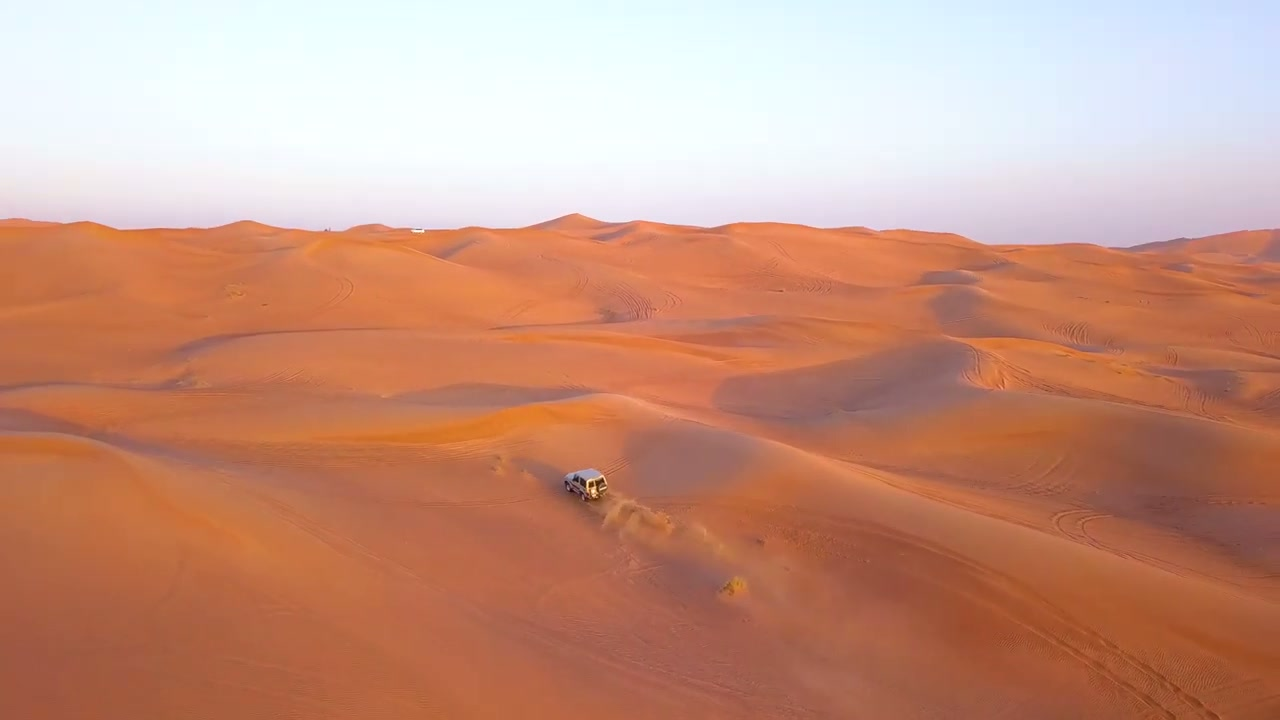vehicle_track: (219, 473, 756, 708), (785, 506, 1220, 719), (521, 542, 755, 708), (1052, 507, 1279, 591), (833, 456, 1043, 531), (963, 346, 1175, 409), (1050, 507, 1224, 580), (219, 437, 533, 469), (532, 545, 665, 613), (962, 343, 1076, 395), (173, 367, 325, 396), (1050, 507, 1132, 558), (742, 256, 835, 294), (1003, 452, 1073, 497), (1165, 374, 1232, 420), (425, 435, 534, 462), (1045, 322, 1124, 354), (380, 493, 548, 508), (539, 253, 590, 298), (603, 281, 656, 321), (1223, 314, 1279, 350), (317, 274, 354, 312), (1170, 378, 1208, 415), (743, 256, 784, 290), (938, 302, 989, 328), (1047, 321, 1091, 347), (1251, 387, 1280, 418), (1198, 495, 1279, 506), (505, 299, 538, 322), (799, 275, 835, 294), (599, 455, 630, 477), (657, 288, 683, 312), (768, 239, 793, 261), (1102, 336, 1125, 355), (1164, 346, 1179, 367)
